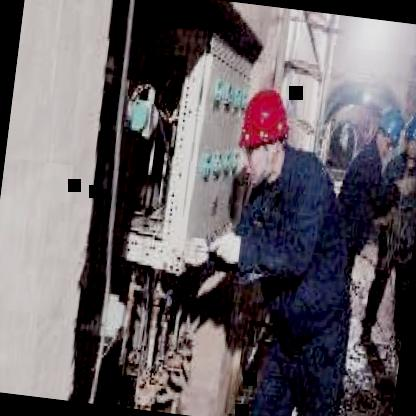helmet: (233, 79, 294, 186), (374, 100, 405, 158), (401, 110, 416, 160)
